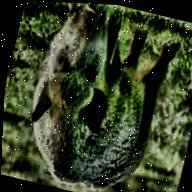boar: (13, 1, 192, 192)
